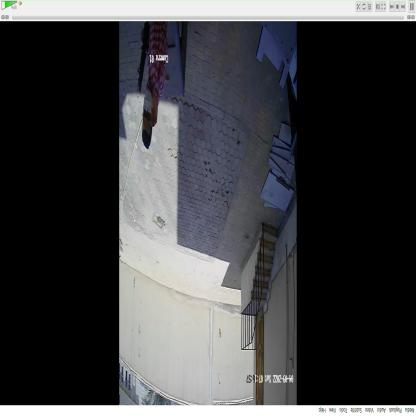handgun: (132, 22, 152, 101)
